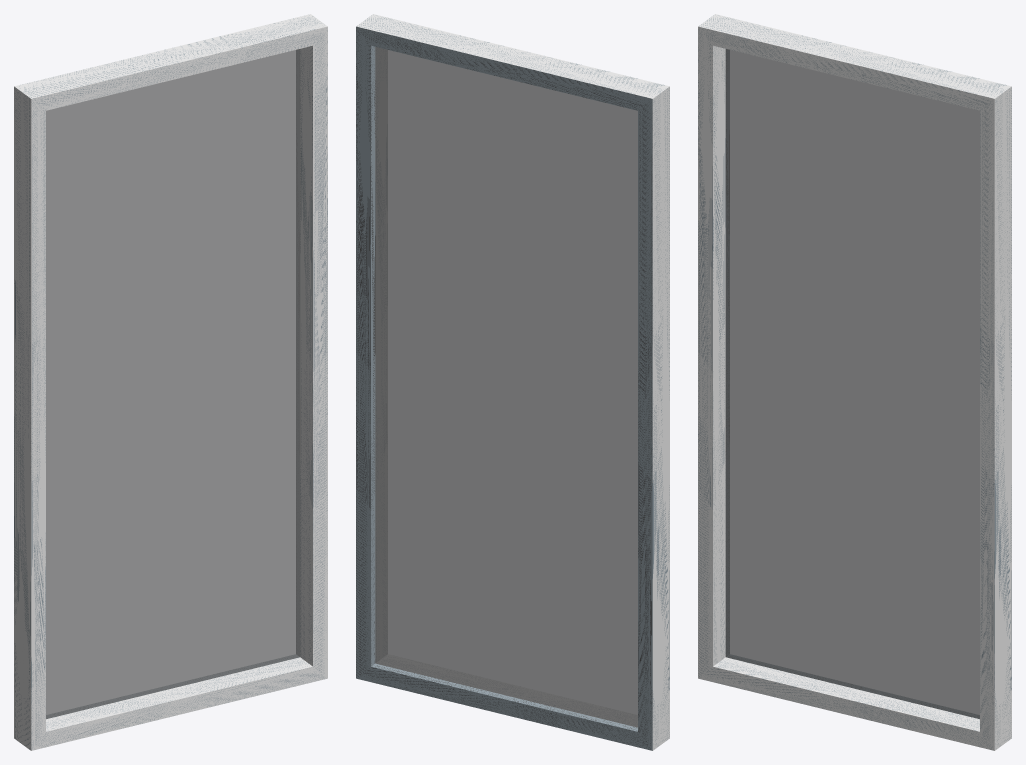
Rendered from tallWindow.fbx.
3 views of the same model, side by side, from view 1: azimuth 30°, elevation 25°; view 2: azimuth 150°, elevation 25°; view 3: azimuth 330°, elevation 25° (orthographic).
Parts seen in each view (by area): view 1: Model; view 2: Model; view 3: Model.
Boxes of the visible parts, x1,y1,x2,y2 form: Model: (14, 14, 327, 750); Model: (356, 14, 669, 750); Model: (698, 14, 1011, 750).
Size of the model in its own units: 1000 by 2100 by 100.
